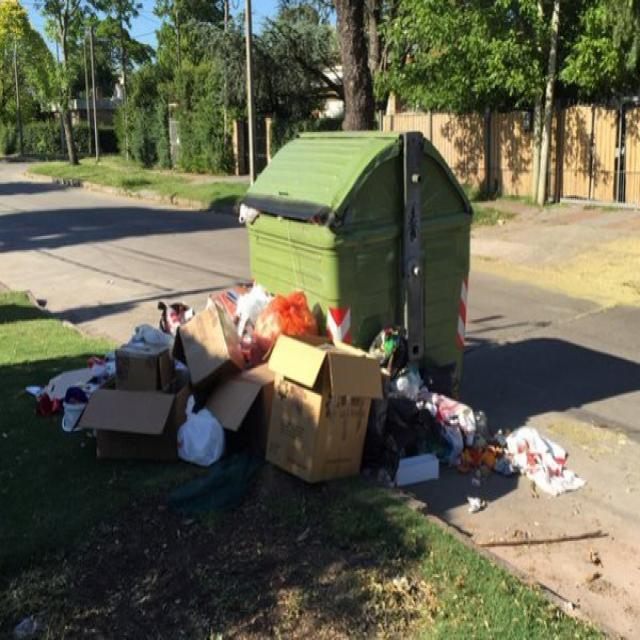garbage: (84, 284, 381, 492), (372, 321, 495, 514), (494, 417, 590, 507), (18, 348, 84, 449), (232, 192, 267, 237)
